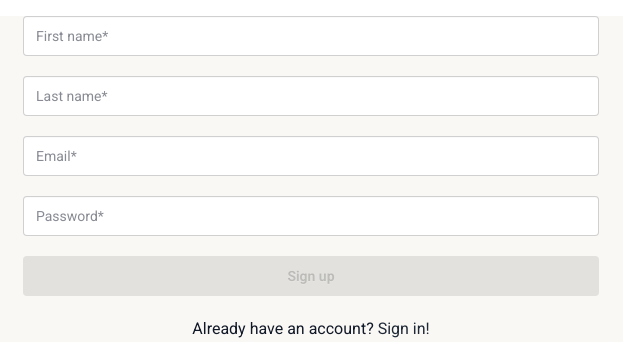
SignUpForm › Test 6: Validate the loading state during the registration process.
This screenshot has width=623, height=355.
Step 1. Type "Alice" into the field with placeholder "First name*" → (311, 36), box [23,16,599,56]
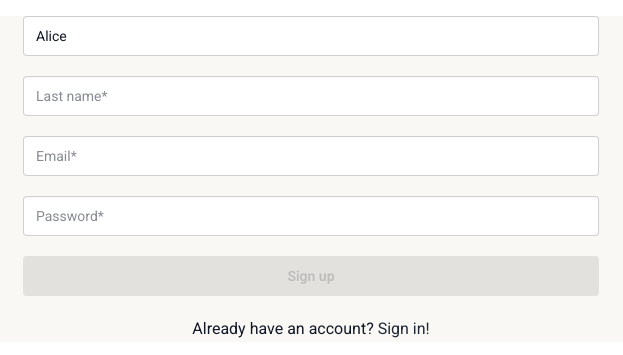
Step 2. Type "Smith" into the field with placeholder "Last name*" → (311, 96), box [23,76,599,116]
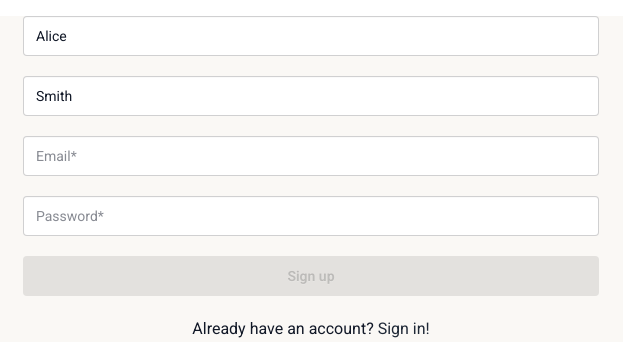
Step 3. Type "alice@example.com" into the field with placeholder "Email*" → (311, 156), box [23,136,599,176]
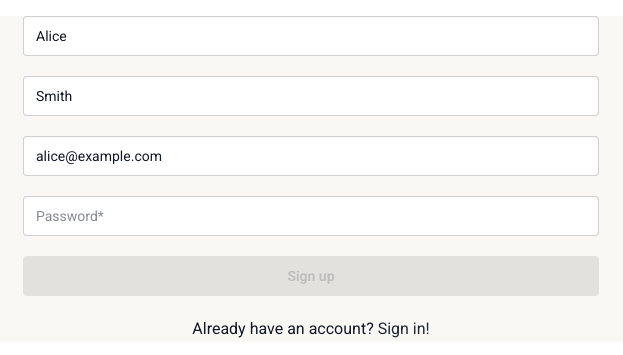
Step 4. Type "password123" into the password field with placeholder "Password*" → (311, 216), box [23,196,599,236]
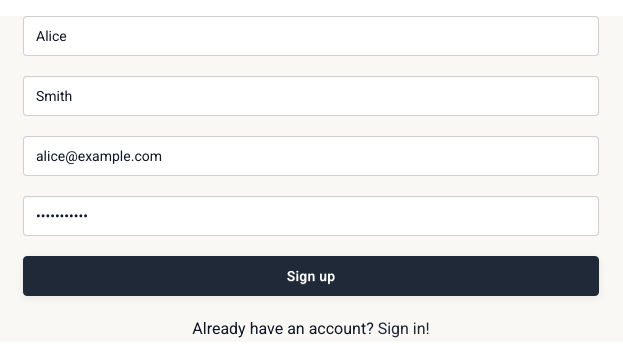
Step 5. Click the button "Sign up" → (311, 276), box [23,256,599,296]
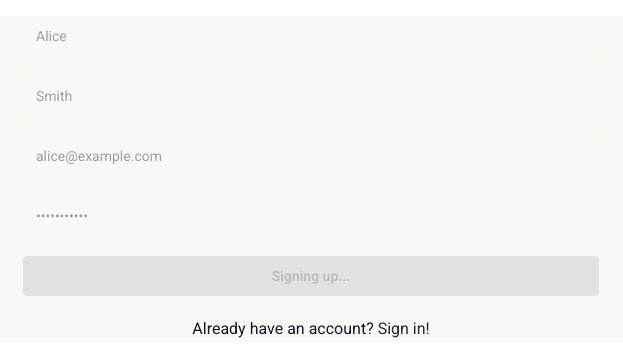
Result: the button is disabled at [23,256,599,296]
